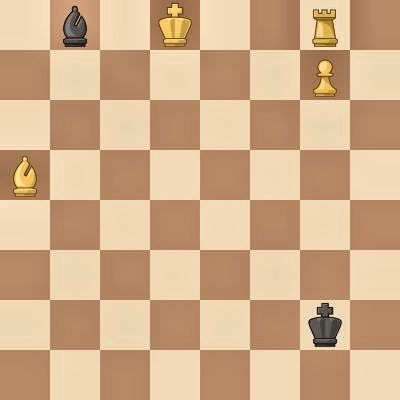black-bishop: (50, 0, 100, 50)
black-king: (300, 300, 350, 350)
white-bishop: (0, 150, 50, 200)
white-king: (150, 0, 200, 50)
white-pawn: (300, 50, 350, 100)
white-rook: (300, 0, 350, 50)
